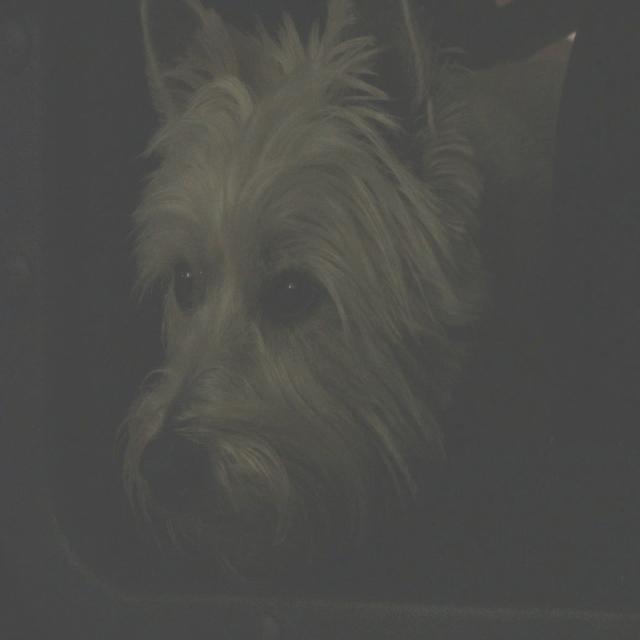Dog: (108, 44, 531, 640)
